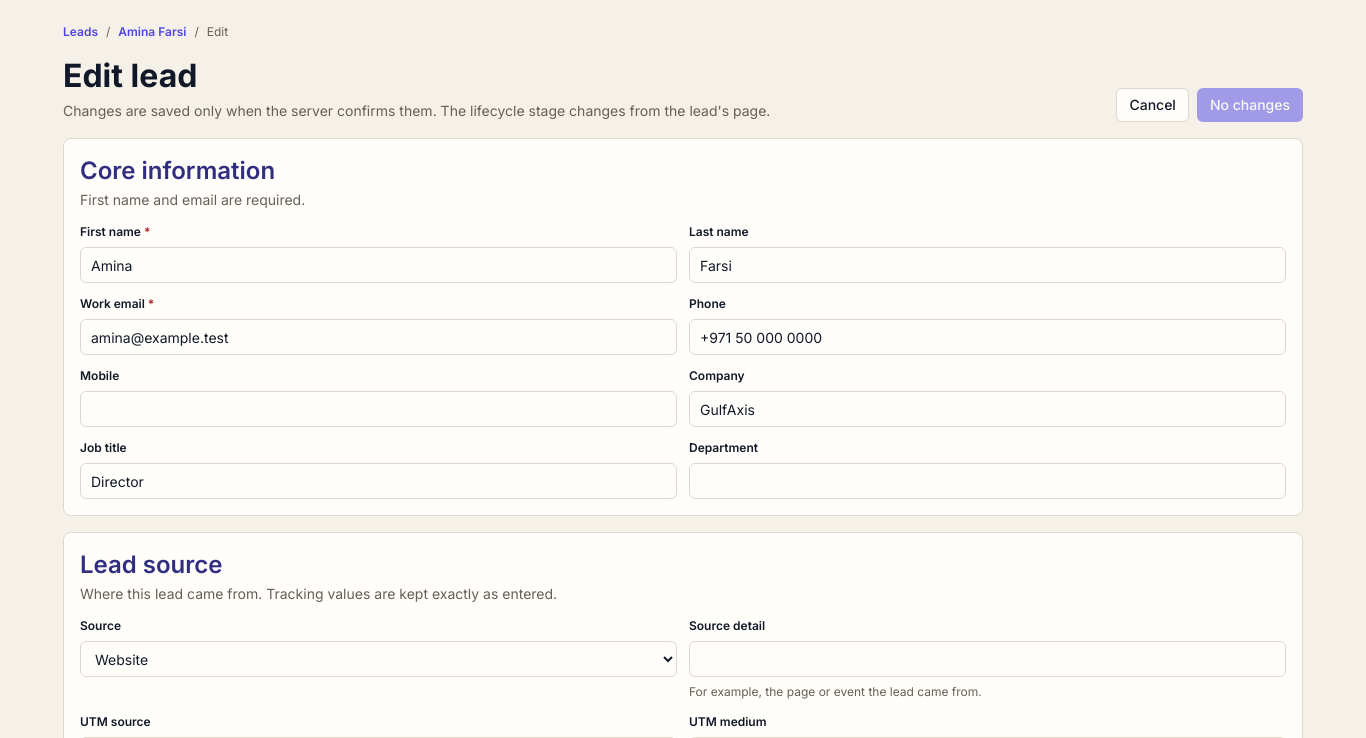
LeadEditPage › a blank email is caught before any request is made
The image size is (1366, 738).
Clear the field labelled "Work email *": (378, 337) [80,319,677,355]
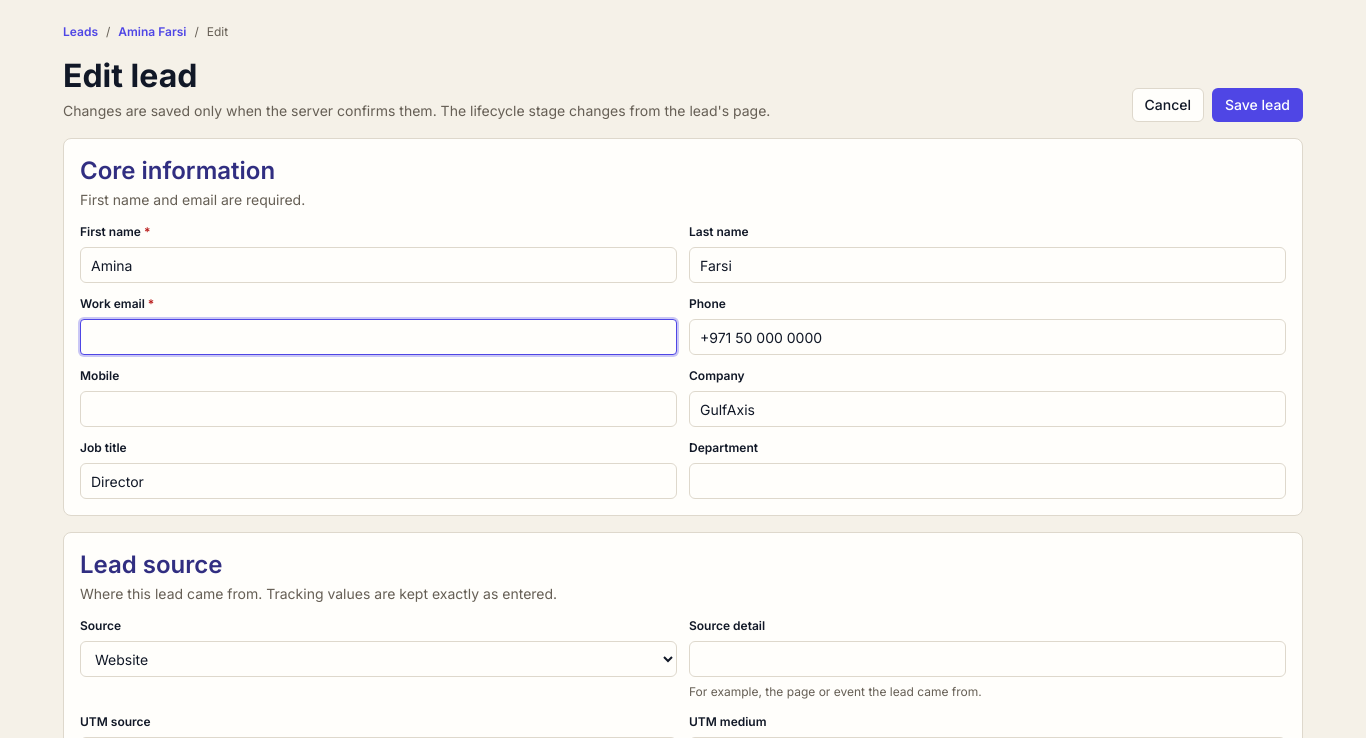
Click the button "Save lead": (1258, 105) [1212,88,1303,122]
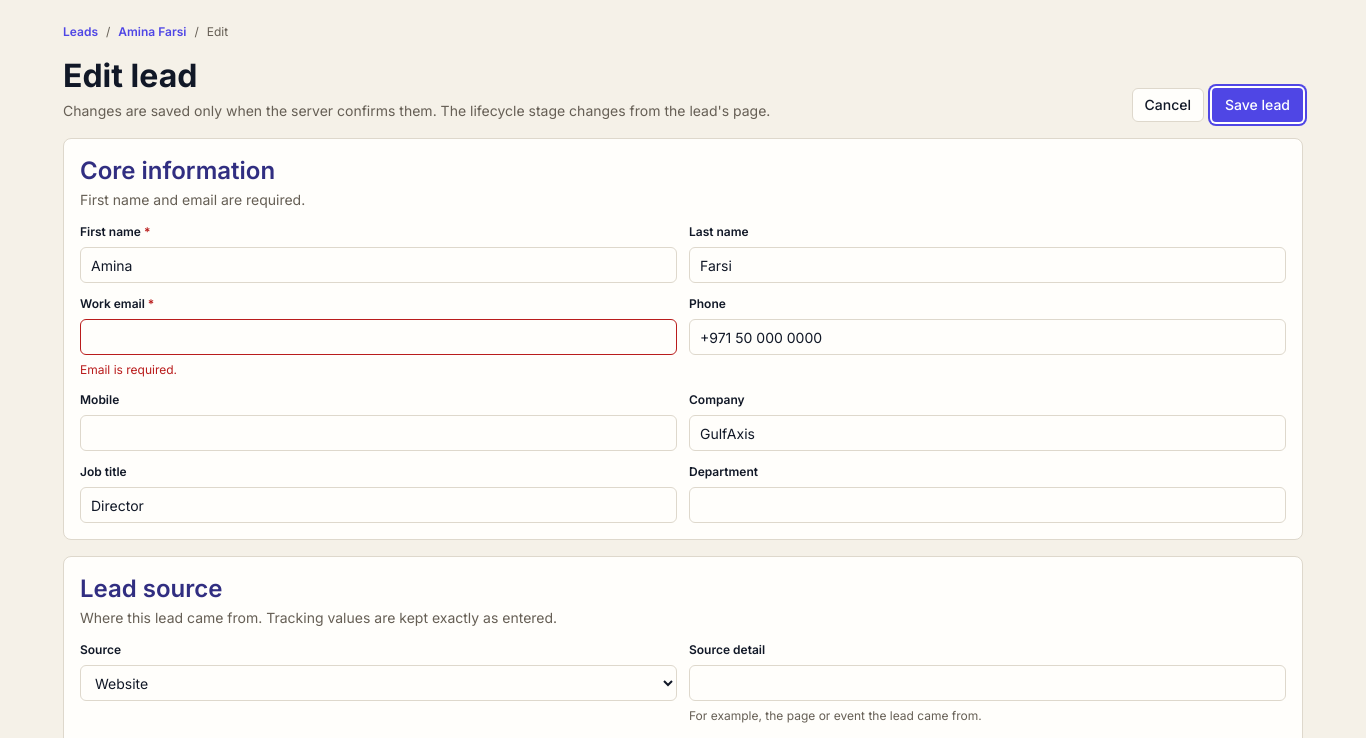
expect the text "Email is required." is shown: met, box [80,362,177,377]
